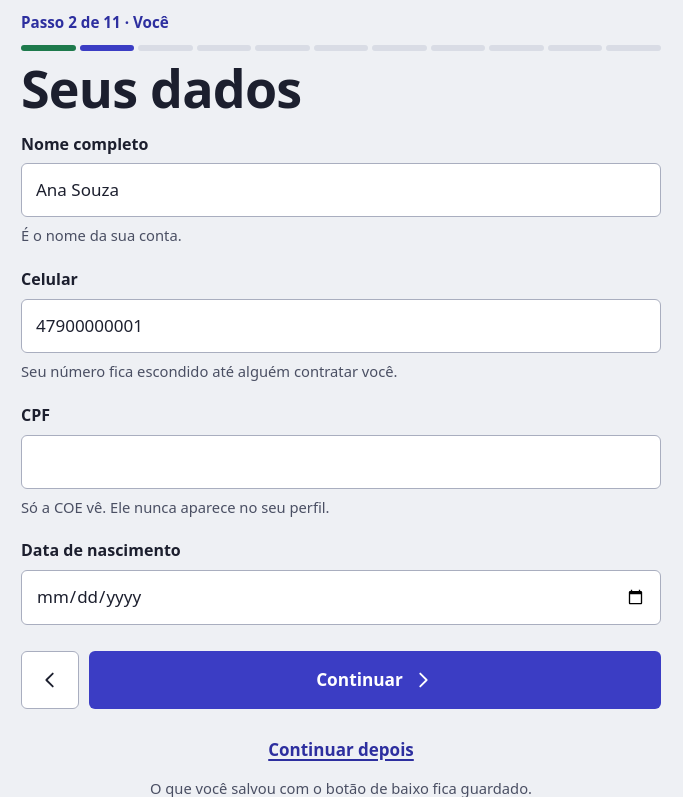
Test case: etapa 2: seus dados › 422 idade-minima vira erro no campo da data
The image size is (683, 797).
Type "52998224725" into the field labelled "CPF".
click(341, 462); type("52998224725")  # box [21,435,661,489]
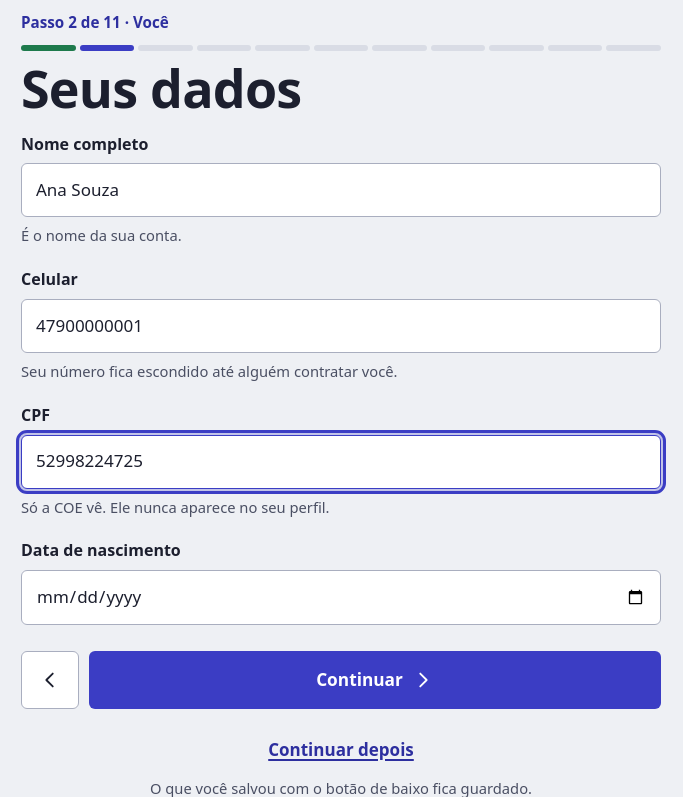
Type "2010-01-31" into the date field labelled "Data de nascimento".
click(341, 597); type("2010-01-31")  # box [21,570,661,624]
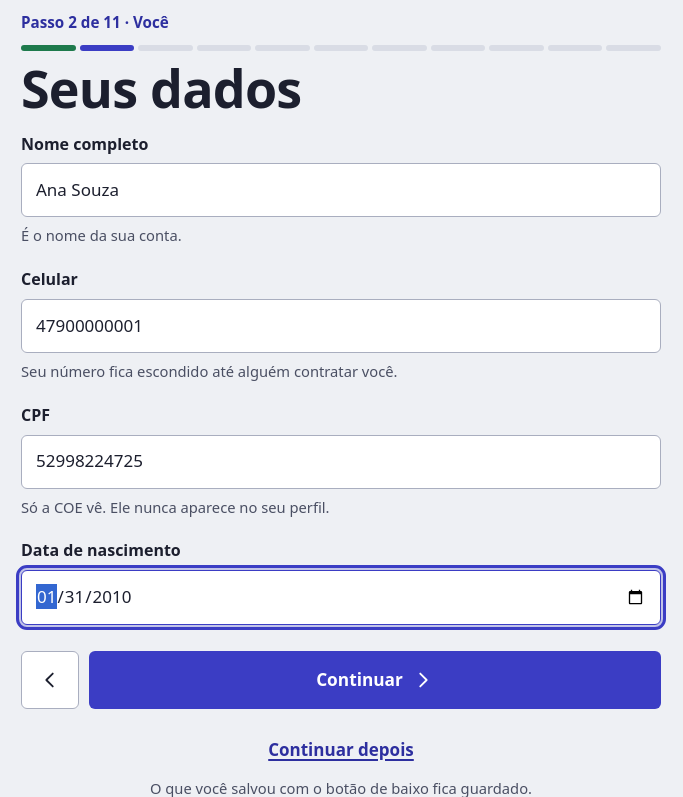
Click the button "Continuar".
click(375, 680)  # box [89,651,661,709]
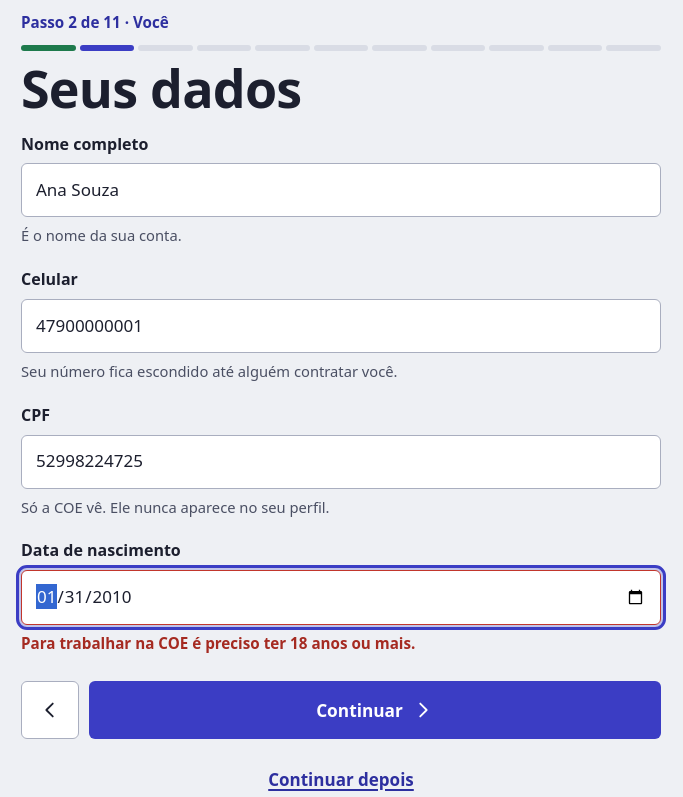
Expected: the text "Para trabalhar na COE é preciso ter 18 anos ou mais." is shown, [21,633,415,653]
